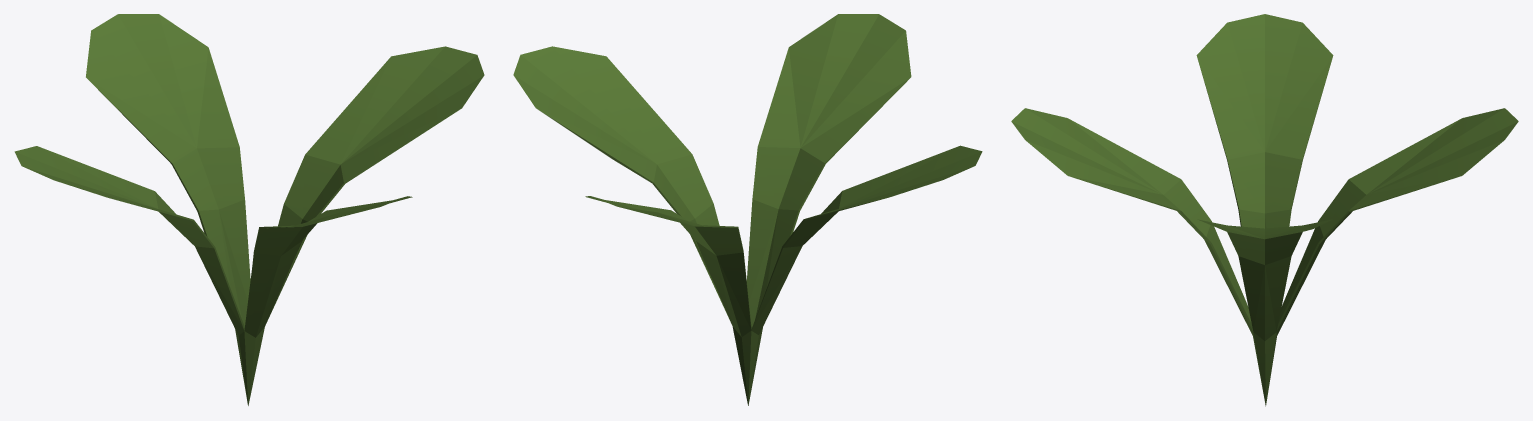
The model's file is Crop_Carrot_STAGE_1_01.obj.
The picture shows the model from 3 angles, left to right: view 1: azimuth 30°, elevation 25°; view 2: azimuth 150°, elevation 25°; view 3: azimuth 270°, elevation 25°; orthographic projection. The views are drawn at different scales.
Visible parts, largest first — view 1: Crop_Carrot_STAGE_1_01; view 2: Crop_Carrot_STAGE_1_01; view 3: Crop_Carrot_STAGE_1_01.
Boxes of the visible parts, x1=… form: Crop_Carrot_STAGE_1_01: x1=14, y1=14, x2=484, y2=405; Crop_Carrot_STAGE_1_01: x1=513, y1=14, x2=982, y2=405; Crop_Carrot_STAGE_1_01: x1=1011, y1=14, x2=1518, y2=406.
Size of the model in its own units: 0.2646 by 0.1645 by 0.2646.
1 material, 1 textured.
